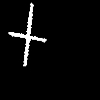single_crochet: (9, 3, 45, 65)
